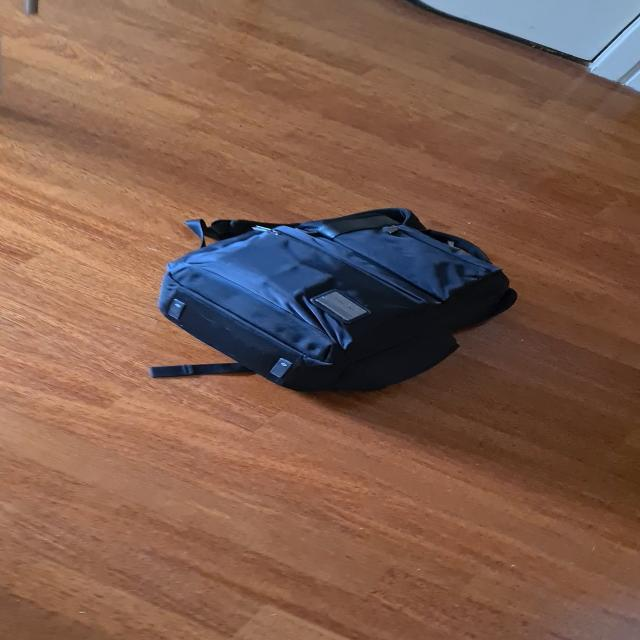backpack: (148, 199, 532, 405)
